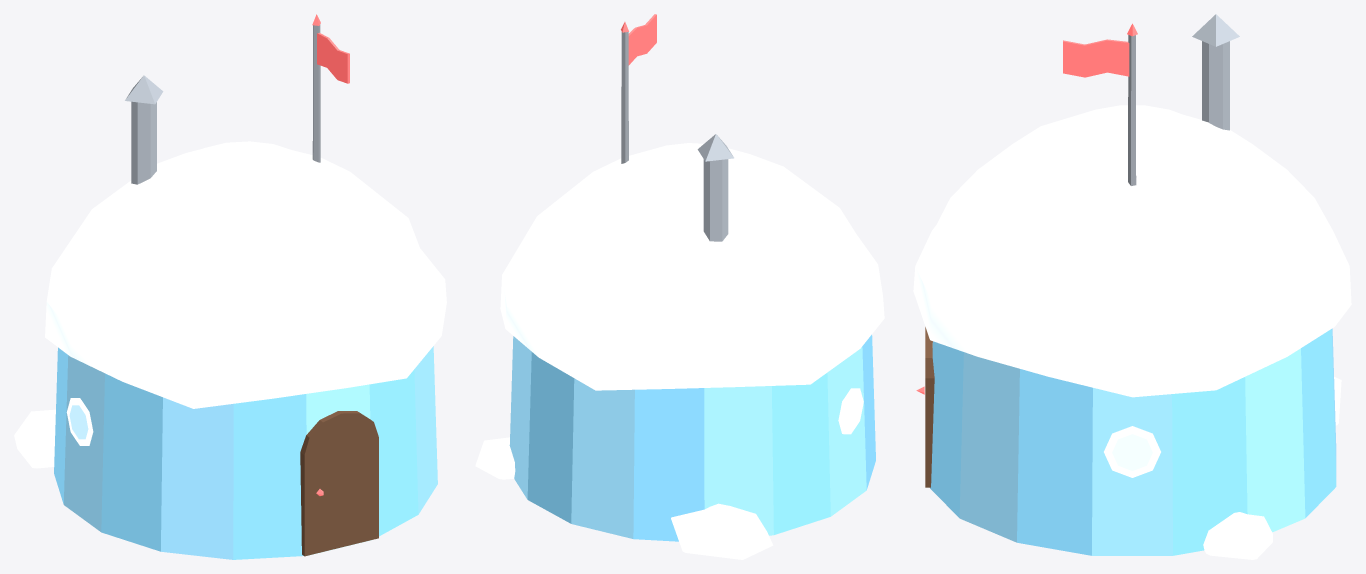
The model's file is ice-hut-c.glb.
3 renders of one model, left to right at view 1: azimuth 30°, elevation 25°; view 2: azimuth 150°, elevation 25°; view 3: azimuth 270°, elevation 25°, orthographic. The views are drawn at different scales.
Visible parts, largest first — view 1: ice-hut-c; view 2: ice-hut-c; view 3: ice-hut-c.
Boxes of the visible parts, left/top/right/bottom form: ice-hut-c: left=14, top=14, right=446, bottom=559; ice-hut-c: left=475, top=14, right=884, bottom=559; ice-hut-c: left=913, top=14, right=1351, bottom=559.
Size of the model in its own units: 4.72 by 5.75 by 4.72.
